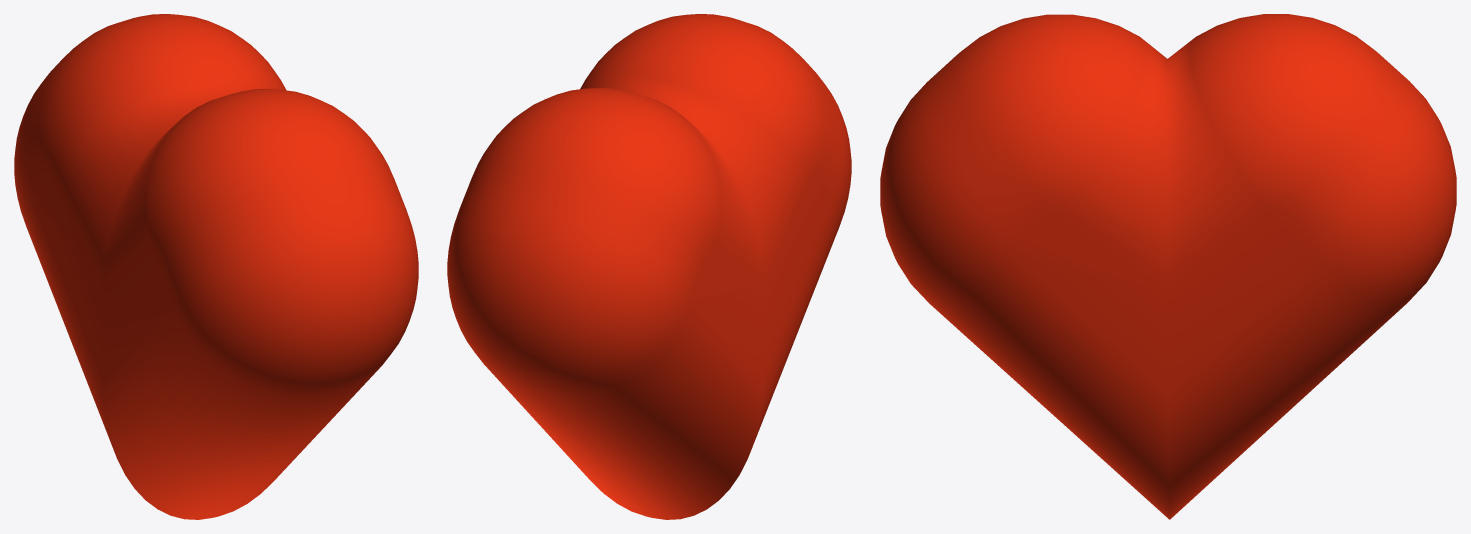
The model's file is labor_social.fbx.
3 renders of one model, left to right at view 1: azimuth 30°, elevation 25°; view 2: azimuth 150°, elevation 25°; view 3: azimuth 270°, elevation 25°, orthographic. The views are drawn at different scales.
Parts seen in each view (by area): view 1: Cube; view 2: Cube; view 3: Cube.
Part boxes in pixels (x1=…): Cube: x1=14, y1=14, x2=418, y2=519; Cube: x1=447, y1=14, x2=851, y2=519; Cube: x1=880, y1=14, x2=1456, y2=519.
Bounding box in the file's own units: 163 × 310 × 336.
